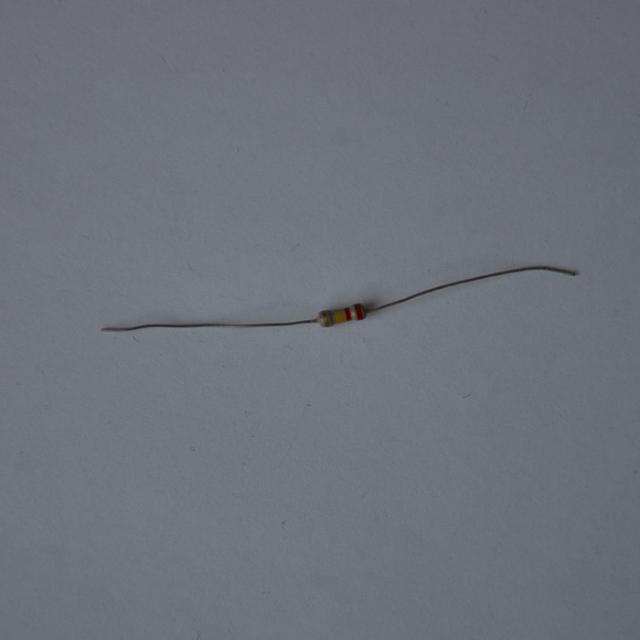gold: (324, 310, 330, 325)
red: (355, 303, 361, 319), (344, 307, 350, 319)
resistor: (311, 297, 373, 334)
yellow: (336, 310, 342, 323)
